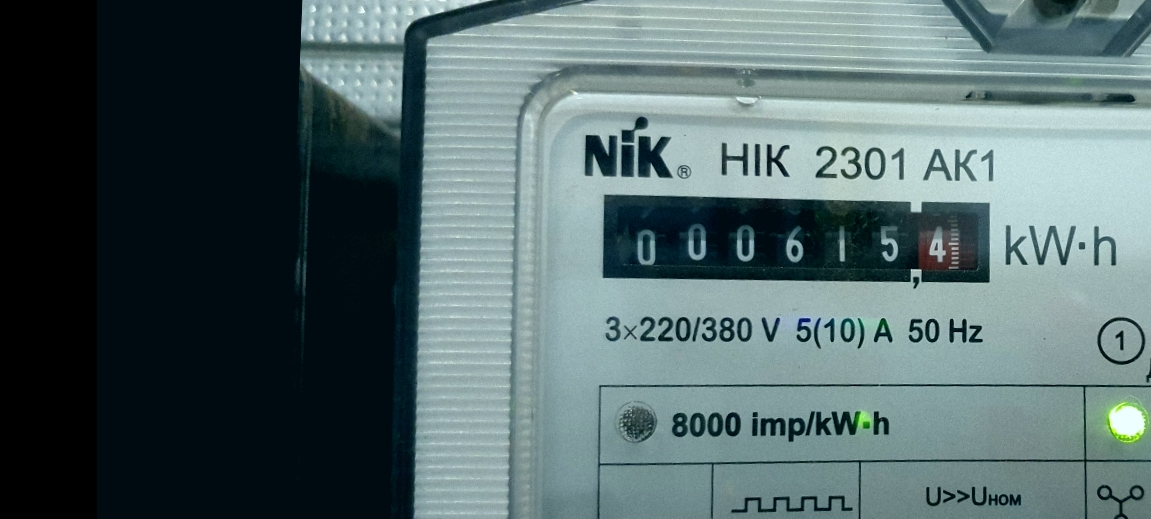0: (732, 220, 758, 264), (632, 224, 659, 266), (684, 219, 709, 260)
1: (835, 221, 849, 263)
4: (927, 222, 947, 263)
5: (877, 221, 902, 263)
6: (781, 221, 807, 263)
screen: (587, 174, 1006, 304)
